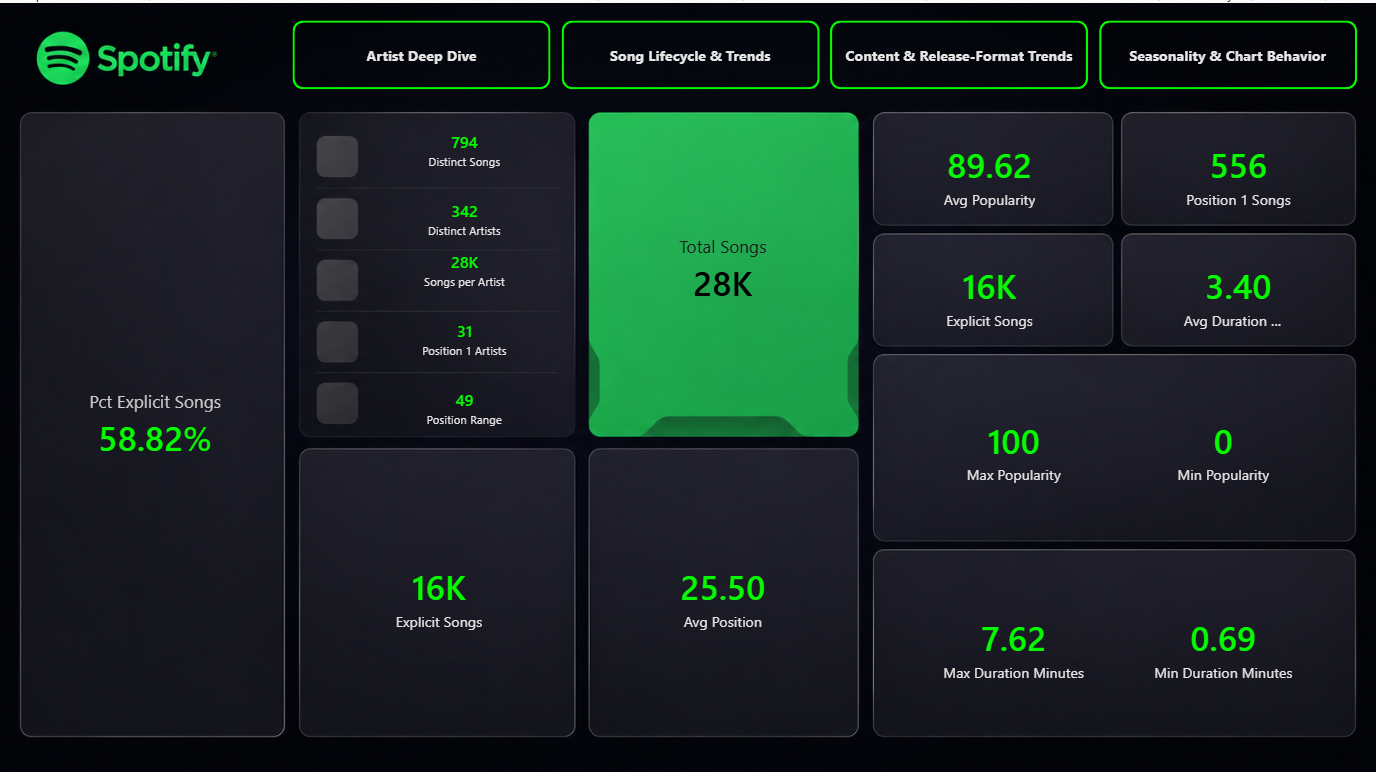

The dashboard page shown, as its layout file describes it:
{"tool":"powerbi","page":{"name":"Executive Overview","canvas":[1280,720],"ordinal":1},"visuals":[{"type":"cardVisual","fields":{"Data":["Measure.Pct Explicit Songs"]},"box":[32,304,224,176],"z":0},{"type":"cardVisual","fields":{"Data":["Measure.Distinct Songs"]},"box":[336,96,192,80],"z":1000},{"type":"cardVisual","fields":{"Data":["Measure.Position 1 Artists"]},"box":[336,272,192,80],"z":2000},{"type":"cardVisual","fields":{"Data":["Measure.Songs per Artist"]},"box":[336,208,192,80],"z":3000},{"type":"cardVisual","fields":{"Data":["Measure.Distinct Artists"]},"box":[336,160,192,80],"z":4000},{"type":"cardVisual","fields":{"Data":["Measure.Total Songs"]},"box":[560,176,224,144],"z":5000},{"type":"cardVisual","fields":{"Data":["Measure.Avg Popularity"]},"box":[832,112,176,96],"z":6000},{"type":"cardVisual","fields":{"Data":["Measure.Position 1 Songs"]},"box":[1072,112,160,96],"z":7000},{"type":"cardVisual","fields":{"Data":["Measure.Avg Duration Minutes"]},"box":[1072,224,160,96],"z":8000},{"type":"cardVisual","fields":{"Data":["Measure.Explicit Songs"]},"box":[832,224,176,96],"z":9000},{"type":"cardVisual","fields":{"Data":["Measure.Position Range"]},"box":[336,336,192,80],"z":10000},{"type":"cardVisual","fields":{"Data":["Measure.Max Popularity","Measure.Min Popularity"]},"box":[832,336,416,160],"z":11000},{"type":"cardVisual","fields":{"Data":["Measure.Max Duration Minutes","Measure.Min Duration Minutes"]},"box":[832,528,416,144],"z":12000},{"type":"cardVisual","fields":{"Data":["Measure.Avg Position"]},"box":[560,432,224,240],"z":13000},{"type":"cardVisual","fields":{"Data":["Measure.Explicit Songs"]},"box":[288,432,240,240],"z":14000},{"type":"pageNavigator","box":[272,16,992,64],"z":15000}]}

Visuals, with their boxes in screenshot pixels (x1, y1, x2, y2), scaled from the page's 1280x720 canvas onto the 1376x772 screenshot:
cardVisual - Measure.Pct Explicit Songs: 34:326:275:515
cardVisual - Measure.Distinct Songs: 361:103:568:189
cardVisual - Measure.Position 1 Artists: 361:292:568:377
cardVisual - Measure.Songs per Artist: 361:223:568:309
cardVisual - Measure.Distinct Artists: 361:172:568:257
cardVisual - Measure.Total Songs: 602:189:843:343
cardVisual - Measure.Avg Popularity: 894:120:1084:223
cardVisual - Measure.Position 1 Songs: 1152:120:1324:223
cardVisual - Measure.Avg Duration Minutes: 1152:240:1324:343
cardVisual - Measure.Explicit Songs: 894:240:1084:343
cardVisual - Measure.Position Range: 361:360:568:446
cardVisual - Measure.Max Popularity x Measure.Min Popularity: 894:360:1342:532
cardVisual - Measure.Max Duration Minutes x Measure.Min Duration Minutes: 894:566:1342:721
cardVisual - Measure.Avg Position: 602:463:843:721
cardVisual - Measure.Explicit Songs: 310:463:568:721
pageNavigator: 292:17:1359:86
